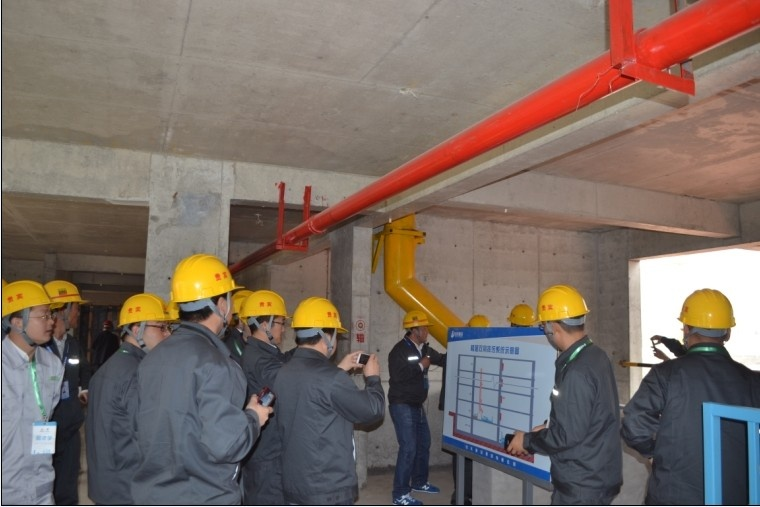yellow: (170, 250, 234, 329), (284, 292, 343, 357), (678, 284, 734, 351), (536, 280, 590, 348), (1, 278, 52, 348), (235, 285, 288, 346), (117, 290, 171, 348), (44, 277, 82, 332), (399, 308, 432, 343)
